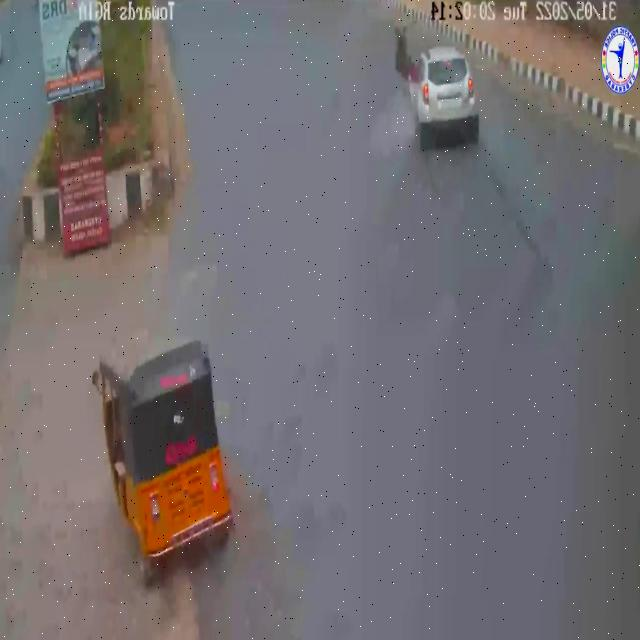accident: (390, 19, 483, 170)
